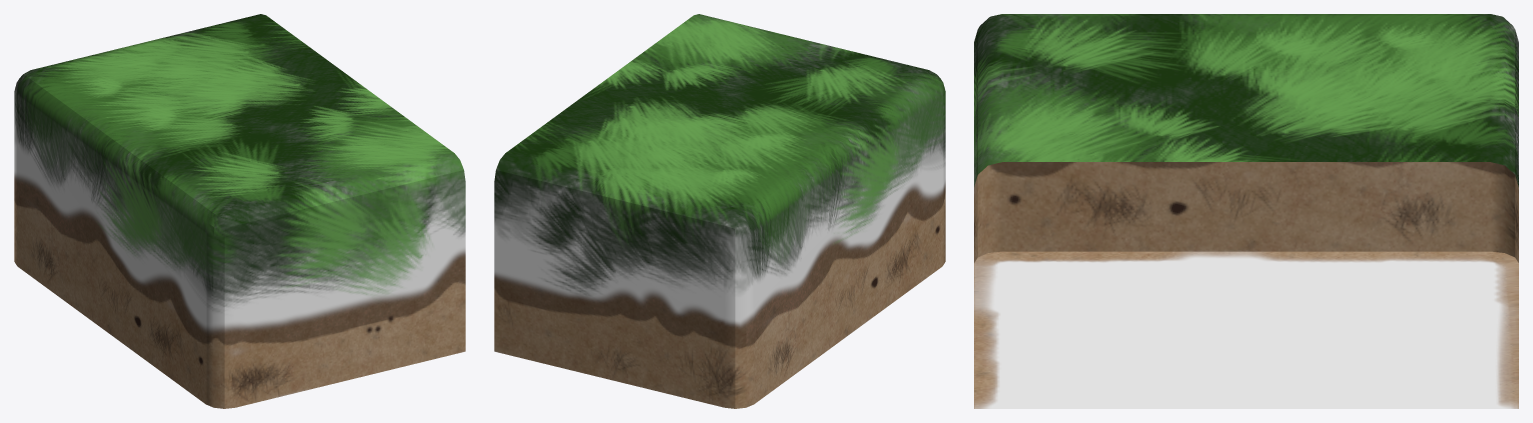
The model's file is longPlatformLeft.fbx.
3 renders of one model, left to right at view 1: azimuth 30°, elevation 25°; view 2: azimuth 150°, elevation 25°; view 3: azimuth 270°, elevation 25°, orthographic. The views are drawn at different scales.
Visible parts, largest first — view 1: longPlatformLeft; view 2: longPlatformLeft; view 3: longPlatformLeft.
Part boxes in pixels (x1,y1,x2,y2): longPlatformLeft: (14, 14, 465, 408); longPlatformLeft: (494, 14, 945, 408); longPlatformLeft: (974, 14, 1518, 408).
Size of the model in its own units: 34.19 by 25 by 50.
Materials: 1 (1 with a texture image).
